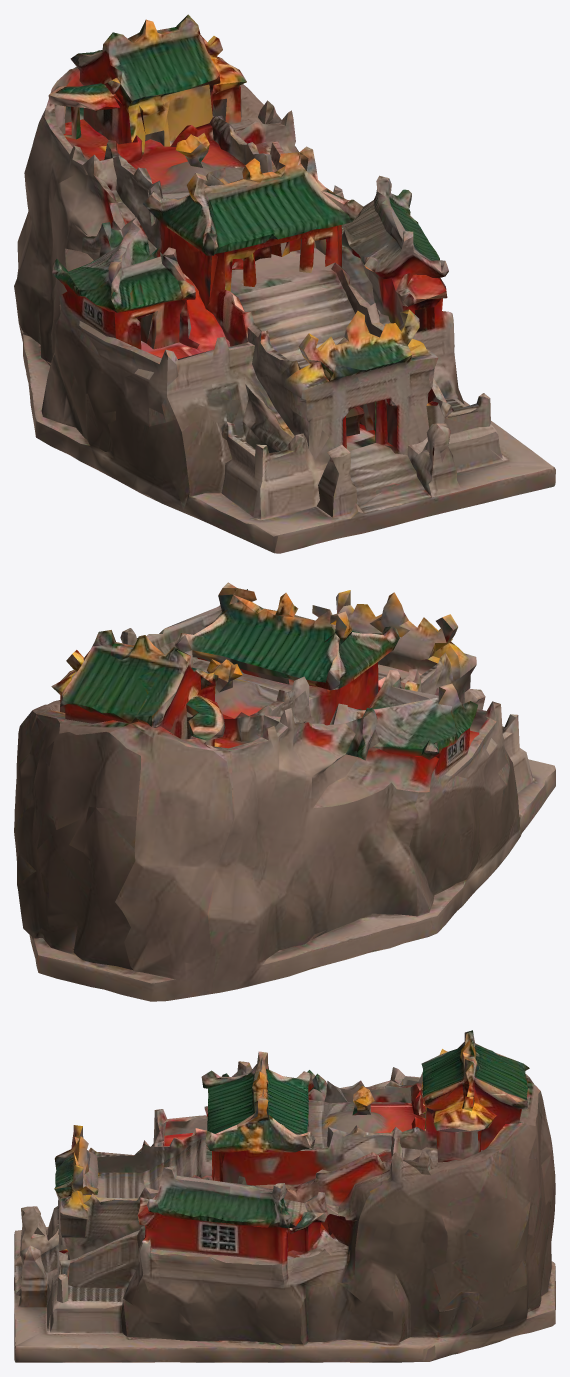
Rendered from a-ma-temple.glb.
3 views of the same model, one above another, from view 1: azimuth 30°, elevation 25°; view 2: azimuth 150°, elevation 25°; view 3: azimuth 270°, elevation 25° (orthographic). The views are drawn at different scales.
Visible parts, largest first — view 1: logan-textured.obj; view 2: logan-textured.obj; view 3: logan-textured.obj.
Boxes of the visible parts, bbox=[...] form: logan-textured.obj: bbox=[14, 14, 555, 553]; logan-textured.obj: bbox=[14, 582, 555, 1001]; logan-textured.obj: bbox=[14, 1030, 555, 1362].
Size of the model in its own units: 0.6492 by 0.5382 by 1.
1 material, 1 textured.
